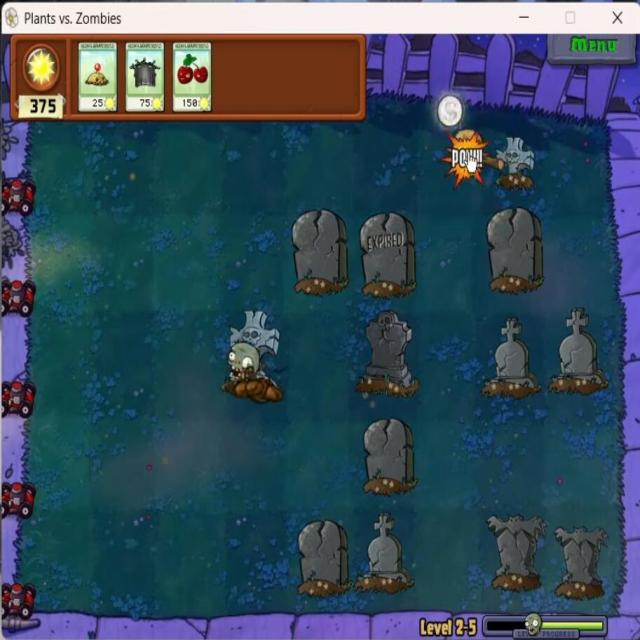coins: (433, 88, 468, 132)
zombies: (225, 340, 267, 391)
